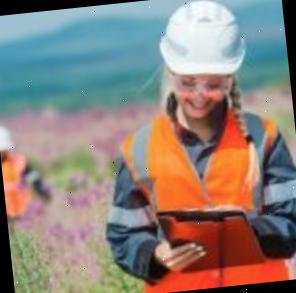helmet: (154, 0, 250, 83)
wear: (124, 109, 293, 293)
